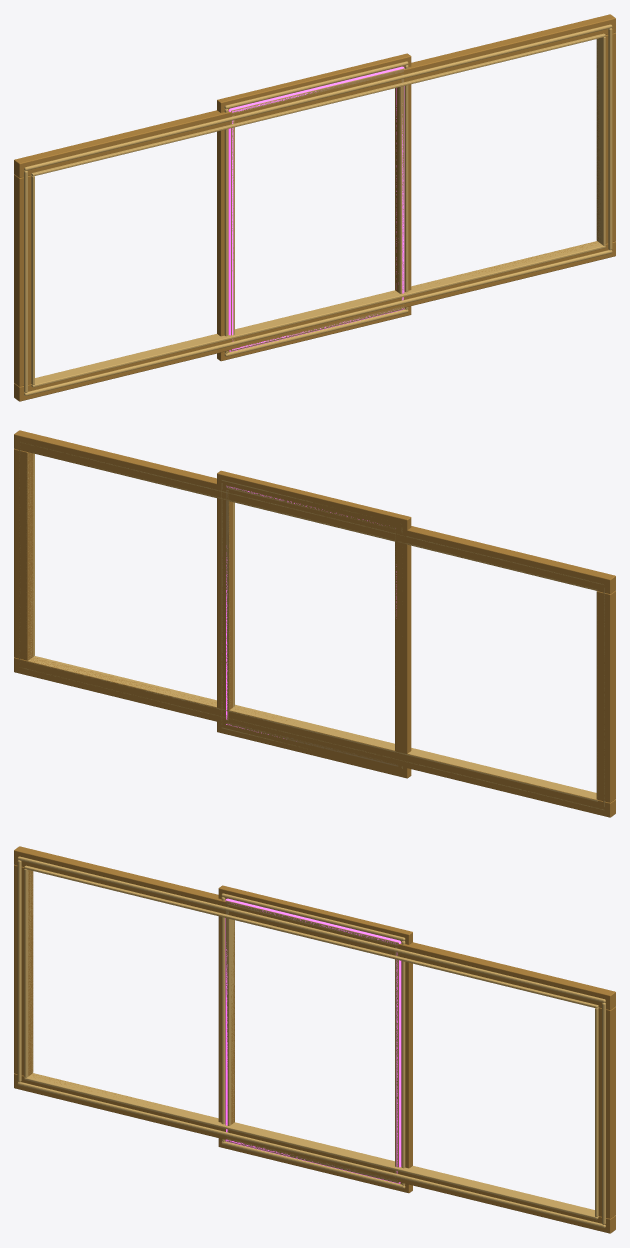
Rendered from cornici.glb.
The picture shows the model from 3 angles, top to bottom: view 1: azimuth 30°, elevation 25°; view 2: azimuth 150°, elevation 25°; view 3: azimuth 330°, elevation 25°; orthographic projection.
Visible parts, largest first — view 1: cornice_panorama, cornice_dorata, cornice_neon, cornice_ottone; view 2: cornice_panorama, cornice_dorata, cornice_ottone; view 3: cornice_panorama, cornice_dorata, cornice_neon, cornice_ottone.
Part boxes in pixels (x1,y1,x2,y2): cornice_panorama: [14, 14, 615, 401]; cornice_dorata: [217, 53, 411, 361]; cornice_neon: [228, 66, 404, 351]; cornice_ottone: [231, 68, 404, 351]; cornice_panorama: [14, 430, 615, 817]; cornice_dorata: [217, 470, 411, 778]; cornice_ottone: [226, 485, 398, 766]; cornice_panorama: [14, 846, 615, 1233]; cornice_dorata: [218, 885, 412, 1193]; cornice_neon: [225, 898, 401, 1183]; cornice_ottone: [225, 900, 398, 1183].
Size of the model in its own units: 4.22 by 1.75 by 0.09.
